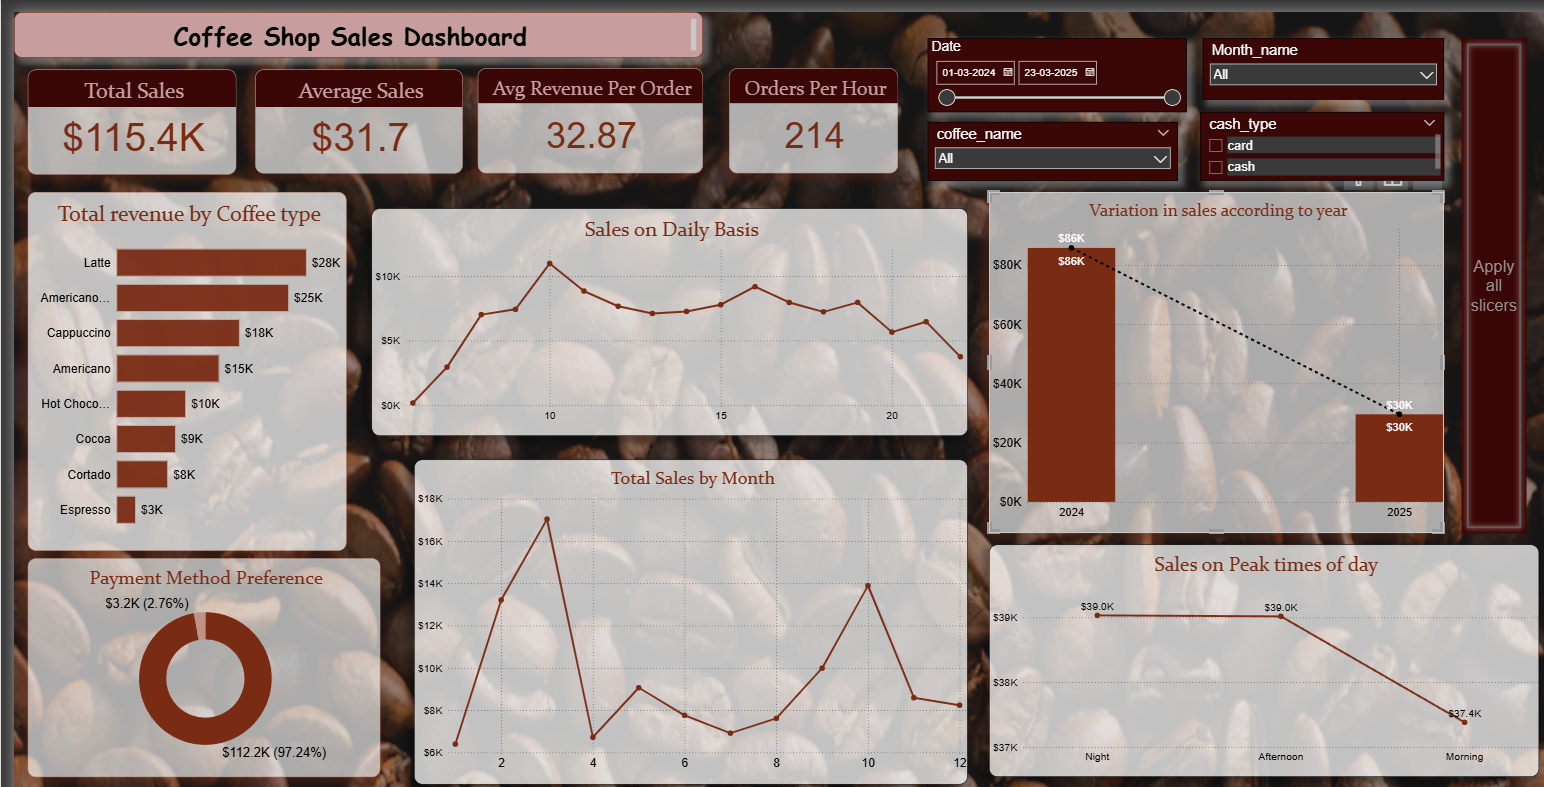

What the dashboard file says about the page in this screenshot:
{"tool":"powerbi","page":{"name":"Page 1","canvas":[3000,3000],"ordinal":0},"visuals":[{"type":"card","title":"Total Sales ","fields":{"Values":["Sum(Table_1.money)"]},"box":[21.2,88.5,321.2,161.5],"z":0},{"type":"textbox","box":[0,0,1060,70],"z":1000},{"type":"card","title":"Average Sales","fields":{"Values":["Avg(Table_1.money)"]},"box":[371.2,88.5,319.2,159.6],"z":2000},{"type":"clusteredBarChart","title":"Total revenue by Coffee type","fields":{"Category":["Table_1.coffee_name"],"Y":["Sum(Table_1.money)"]},"box":[21.2,276.9,490.4,551.9],"z":3000},{"type":"donutChart","title":"Payment Method Preference","fields":{"Category":["Table_1.cash_type"],"Y":["Sum(Table_1.money)"]},"box":[21.2,840.4,542.3,336.5],"z":4000},{"type":"lineChart","title":"Sales on Daily Basis","fields":{"Y":["Sum(Table_1.money)"],"Category":["Table_1.hour_of_day"]},"box":[550,301.9,917.3,350],"z":5000},{"type":"stackedAreaChart","title":"Sales on Peak times of day","fields":{"Category":["Table_1.Time_of_Day"],"Y":["Sum(Table_1.money)"]},"box":[1500,819.2,846.2,357.7],"z":6000},{"type":"lineClusteredColumnComboChart","title":"Variation in sales according to year","fields":{"Category":["Table_1.year"],"Y":["Sum(Table_1.money)"],"Y2":["Sum(Table_1.money)"]},"box":[1500,276.9,700,525],"z":7000},{"type":"lineChart","title":"Total Sales by Month ","fields":{"Y":["Sum(Table_1.money)"],"Category":["Table_1.Monthsort"]},"box":[615.4,688.5,851.9,500],"z":8000},{"type":"card","title":"Avg Revenue Per Order","fields":{"Values":["Table_1.Avg Revenue per Order"]},"box":[713.5,86.5,346.2,161.5],"z":9000},{"type":"card","title":"Orders Per Hour","fields":{"Values":["Table_1.Orders per Hour"]},"box":[1100,86.5,259.6,161.5],"z":10000},{"type":"slicer","title":"Date","fields":{"Values":["Table_1.date"]},"box":[1405.8,40.4,398.1,113.5],"z":11000},{"type":"slicer","fields":{"Values":["Table_1.cash_type"]},"box":[1825,153.8,375,105.8],"z":12000},{"type":"slicer","fields":{"Values":["Table_1.Month_name"]},"box":[1828.8,40.4,371.2,94.2],"z":13000},{"type":"slicer","fields":{"Values":["Table_1.coffee_name"]},"box":[1405.8,169.2,384.6,90.4],"z":14000},{"type":"actionButton","box":[2226,40,100,762],"z":15000}]}

Visuals, with their boxes on the page's 3000x3000 design canvas (x1, y1, x2, y2). These are canvas units, not pixel positions in the 1544x787 screenshot, which may show the page scaled, cropped or inside an application window:
"Total Sales " card: bbox=(21, 88, 342, 250)
textbox: bbox=(0, 0, 1060, 70)
"Average Sales" card: bbox=(371, 88, 690, 248)
"Total revenue by Coffee type" clusteredBarChart: bbox=(21, 277, 512, 829)
"Payment Method Preference" donutChart: bbox=(21, 840, 564, 1177)
"Sales on Daily Basis" lineChart: bbox=(550, 302, 1467, 652)
"Sales on Peak times of day" stackedAreaChart: bbox=(1500, 819, 2346, 1177)
"Variation in sales according to year" lineClusteredColumnComboChart: bbox=(1500, 277, 2200, 802)
"Total Sales by Month " lineChart: bbox=(615, 688, 1467, 1188)
"Avg Revenue Per Order" card: bbox=(714, 86, 1060, 248)
"Orders Per Hour" card: bbox=(1100, 86, 1360, 248)
"Date" slicer: bbox=(1406, 40, 1804, 154)
slicer - Table_1.cash_type: bbox=(1825, 154, 2200, 260)
slicer - Table_1.Month_name: bbox=(1829, 40, 2200, 135)
slicer - Table_1.coffee_name: bbox=(1406, 169, 1790, 260)
actionButton: bbox=(2226, 40, 2326, 802)
